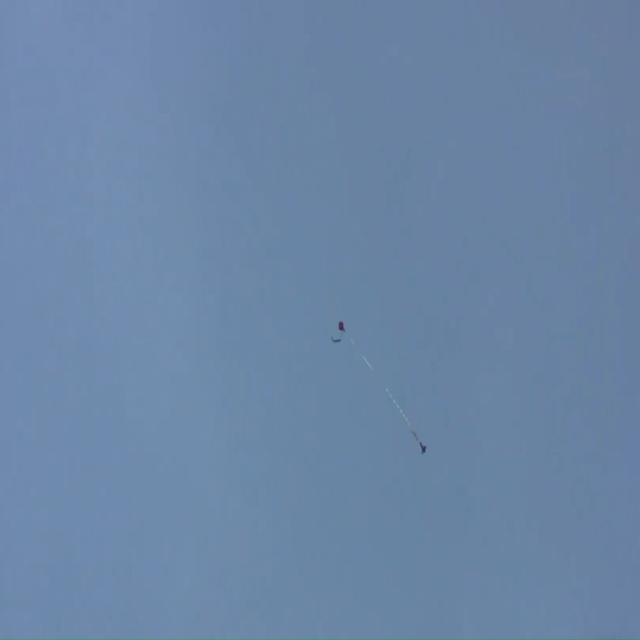Rocket: (419, 440, 427, 456)
